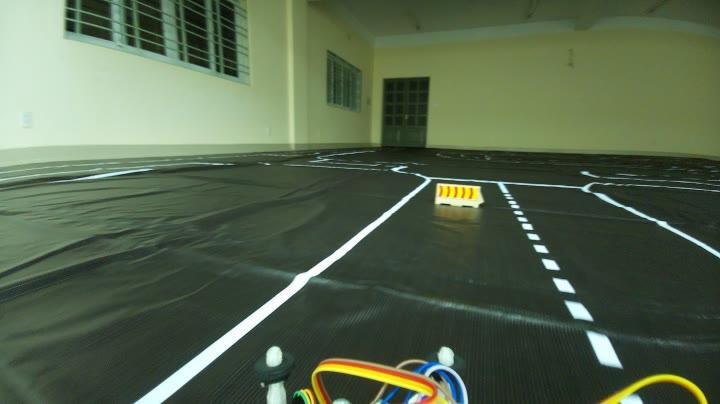roadblock: (432, 178, 482, 208)
